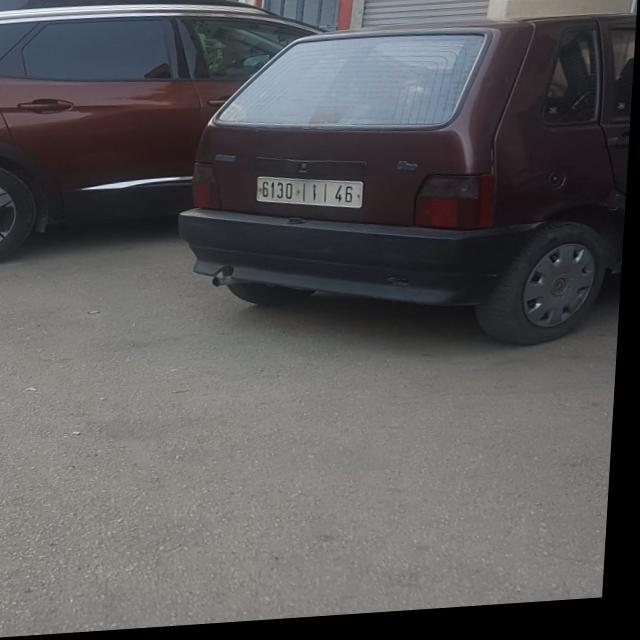License-Plate: (260, 180, 365, 213)
